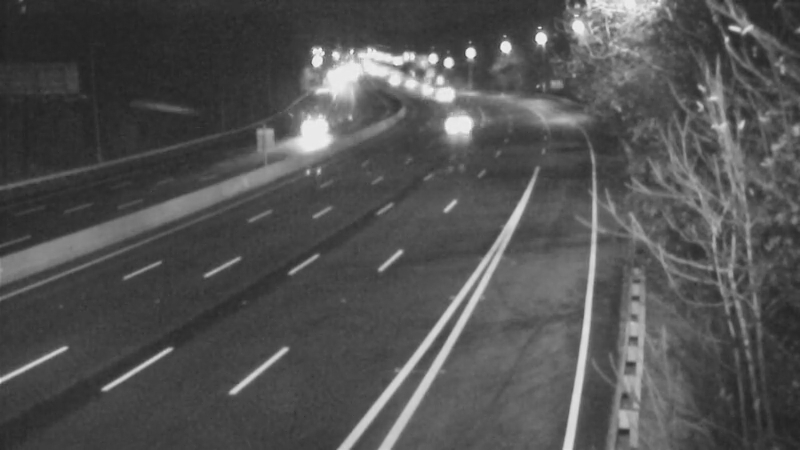vehicle: (384, 60, 434, 110), (404, 62, 454, 112), (423, 72, 473, 122), (432, 97, 482, 147), (296, 105, 346, 155)
